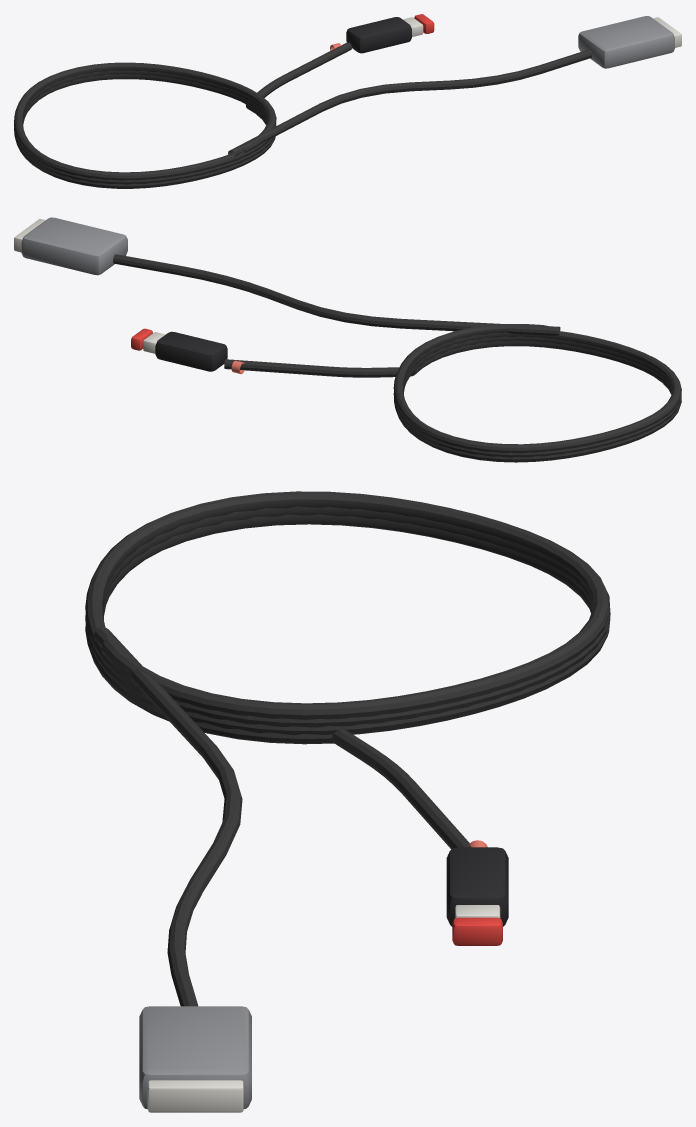
File: gse_umbilical_cable.glb
3 renders of one model, top to bottom at view 1: azimuth 30°, elevation 25°; view 2: azimuth 150°, elevation 25°; view 3: azimuth 270°, elevation 25°, orthographic. The views are drawn at different scales.
Visible parts, largest first — view 1: gse_umbilical_cable; view 2: gse_umbilical_cable; view 3: gse_umbilical_cable.
Part boxes in pixels (box(x1,y1,x2,y2)): gse_umbilical_cable: box(14, 14, 681, 188); gse_umbilical_cable: box(14, 217, 681, 462); gse_umbilical_cable: box(85, 491, 610, 1112).
Size of the model in its own units: 0.4999 by 0.0167 by 0.1864.
